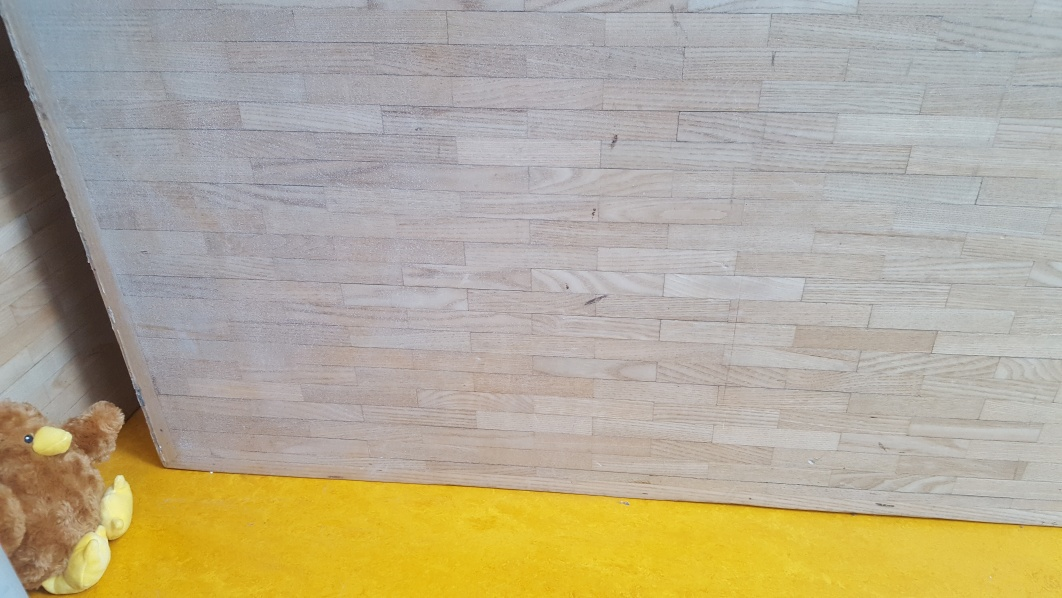chicken: (1, 399, 133, 591)
